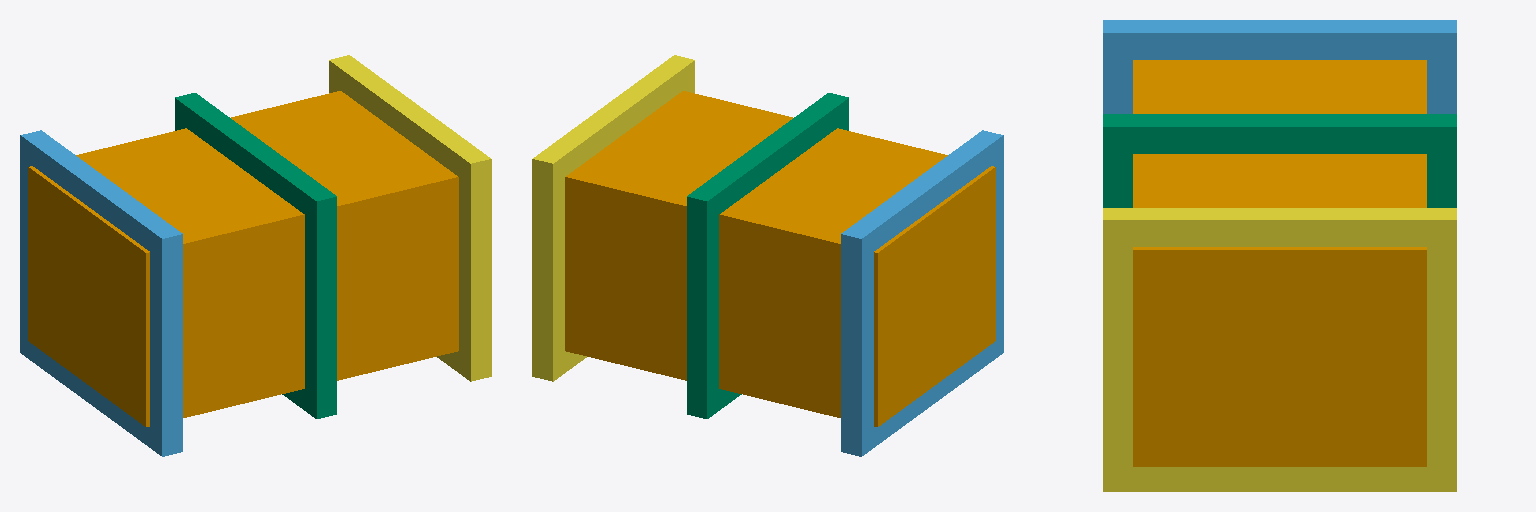
robot.urdf — debris018:
<?xml version="1.0" ?>
<robot name="debris018">

<link name="debris018">
<visual> <origin xyz="0 0 0" rpy="0 0 0" />
<geometry> <box size="0.81 0.49 0.40"/> </geometry>
</visual>
<collision> <origin xyz="0 0 0" rpy="0 0 0" />
<geometry> <box size="0.81 0.49 0.40"/> </geometry>
</collision>
<inertial> <origin xyz="0 0 0" rpy="0 0 0" />
<mass value="10.0" />
<inertia ixx="0.5308" ixy="0" ixz="0" iyy="0.5308" iyz="0" izz="0.5308" />
</inertial>
</link>
<gazebo reference="debris018"> <material>Gazebo/WoodFloor</material> </gazebo>

<link name="debris0180">
<visual> <origin xyz="-0.37 0 0" rpy="0 0 0" />
<geometry> <box size="0.05 0.59 0.50"/> </geometry>
</visual>
<collision> <origin xyz="-0.37 0 0" rpy="0 0 0" />
<geometry> <box size="0.05 0.59 0.50"/> </geometry>
</collision>
<inertial> <origin xyz="0 0 0" rpy="0 0 0" />
<mass value="0.1" />
<inertia ixx="0.0100" ixy="0" ixz="0" iyy="0.0100" iyz="0" izz="0.0100" />
</inertial>
</link>
<gazebo reference="debris0180"> <material>Gazebo/WoodFloor</material> </gazebo>

<joint name="debris0180joint" type="fixed">
<parent link="debris018"/>
<child link="debris0180"/>
<origin xyz="0 0 0" rpy="0 0 0" />
</joint>

<link name="debris0181">
<visual> <origin xyz="0.00 0 0" rpy="0 0 0" />
<geometry> <box size="0.05 0.59 0.50"/> </geometry>
</visual>
<collision> <origin xyz="0.00 0 0" rpy="0 0 0" />
<geometry> <box size="0.05 0.59 0.50"/> </geometry>
</collision>
<inertial> <origin xyz="0 0 0" rpy="0 0 0" />
<mass value="0.1" />
<inertia ixx="0.0100" ixy="0" ixz="0" iyy="0.0100" iyz="0" izz="0.0100" />
</inertial>
</link>
<gazebo reference="debris0181"> <material>Gazebo/WoodFloor</material> </gazebo>

<joint name="debris0181joint" type="fixed">
<parent link="debris018"/>
<child link="debris0181"/>
<origin xyz="0 0 0" rpy="0 0 0" />
</joint>

<link name="debris0182">
<visual> <origin xyz="0.37 0 0" rpy="0 0 0" />
<geometry> <box size="0.05 0.59 0.50"/> </geometry>
</visual>
<collision> <origin xyz="0.37 0 0" rpy="0 0 0" />
<geometry> <box size="0.05 0.59 0.50"/> </geometry>
</collision>
<inertial> <origin xyz="0 0 0" rpy="0 0 0" />
<mass value="0.1" />
<inertia ixx="0.0100" ixy="0" ixz="0" iyy="0.0100" iyz="0" izz="0.0100" />
</inertial>
</link>
<gazebo reference="debris0182"> <material>Gazebo/WoodFloor</material> </gazebo>

<joint name="debris0182joint" type="fixed">
<parent link="debris018"/>
<child link="debris0182"/>
<origin xyz="0 0 0" rpy="0 0 0" />
</joint>

</robot>

--- Facts derived from the render (not from the file) ---
Views: 3 orthographic renders of the robot side by side, from view 1: azimuth 30°, elevation 25°; view 2: azimuth 150°, elevation 25°; view 3: azimuth 270°, elevation 25°.
Model debris018 with 4 links and 3 joints (3 fixed), rooted at debris018, posed all joints at 0.
Links seen in each view (by area): view 1: debris018, debris0180, debris0182, debris0181; view 2: debris018, debris0180, debris0182, debris0181; view 3: debris018, debris0182, debris0180, debris0181.
Boxes of the visible links, <box> form: debris018: <box>28,91,458,426</box>; debris0180: <box>20,130,182,456</box>; debris0182: <box>329,55,491,381</box>; debris0181: <box>175,93,336,418</box>; debris018: <box>565,91,995,426</box>; debris0180: <box>841,130,1003,456</box>; debris0182: <box>532,55,694,381</box>; debris0181: <box>687,93,848,418</box>; debris018: <box>1133,60,1426,466</box>; debris0182: <box>1103,208,1456,491</box>; debris0180: <box>1103,20,1456,113</box>; debris0181: <box>1103,114,1456,207</box>.
Bounding box of the posed robot: 0.81 × 0.59 × 0.5 m (x, y, z).
Geometry: primitives only (box / cylinder / sphere), no mesh files.
